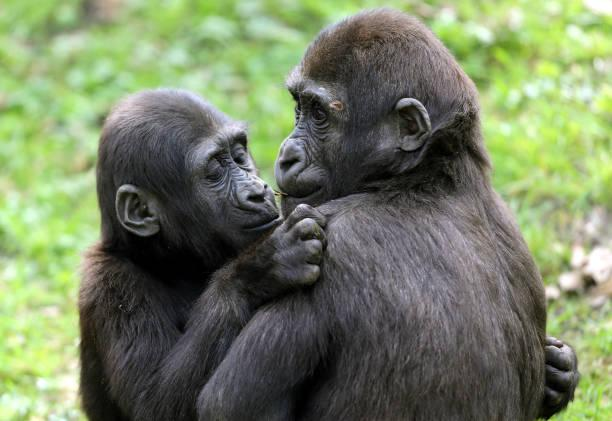gorille_Autres: (48, 0, 566, 421)
